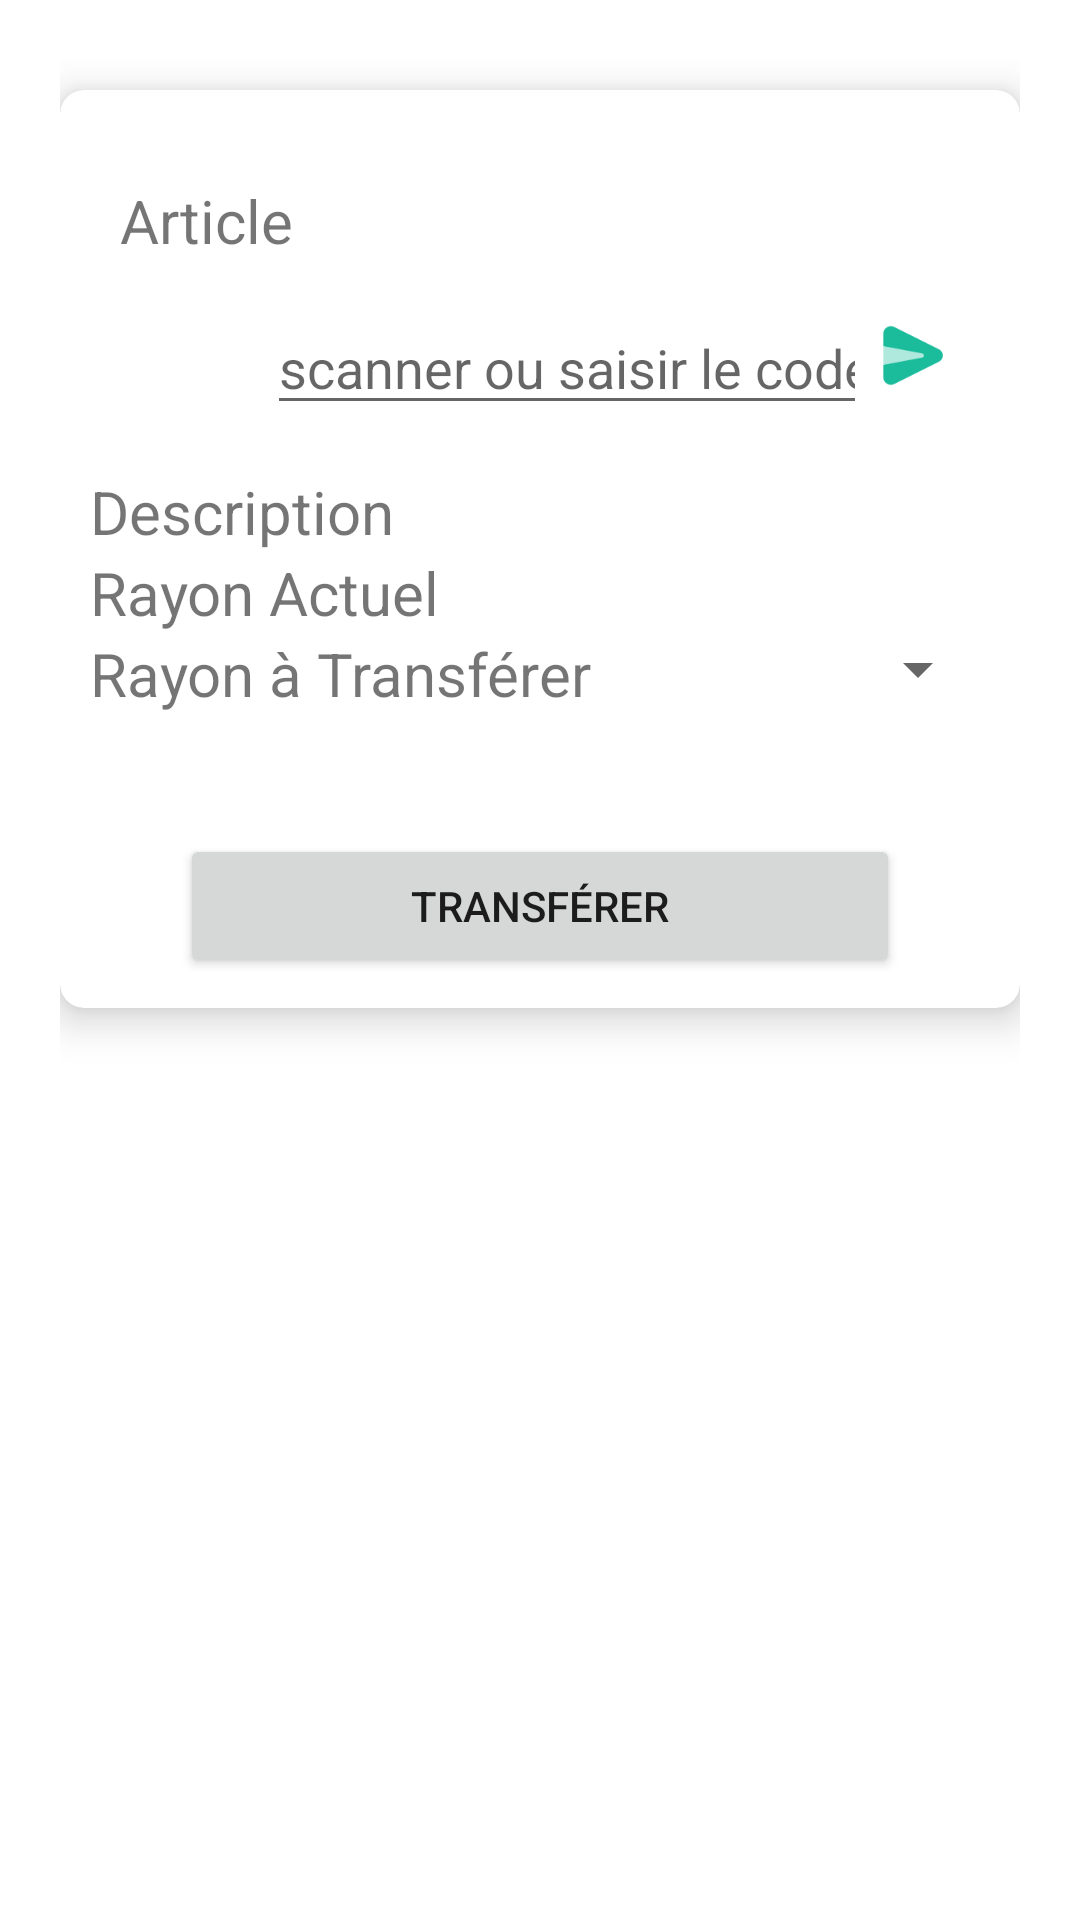

Point at icon controls on the screen. Image size 1080px x 1920px, points as [x,y].
send: [913,355]
